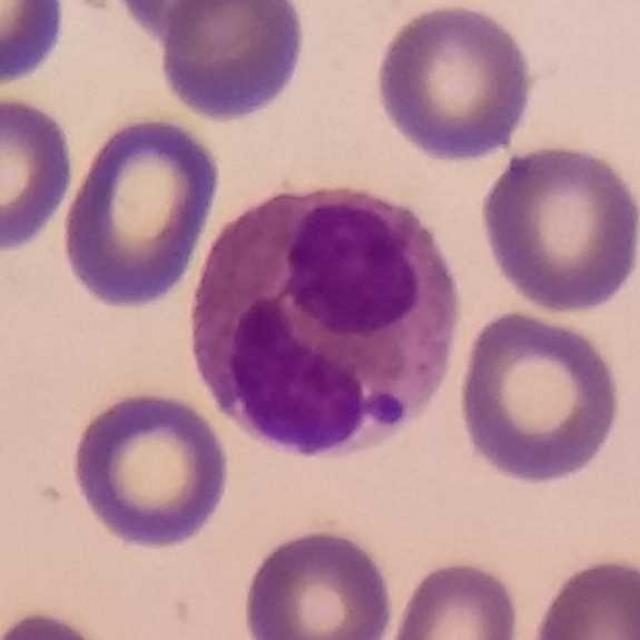Eosinophil: (197, 185, 479, 473)
RBC: (57, 110, 226, 314), (453, 306, 626, 486), (475, 138, 640, 315), (68, 385, 234, 553), (371, 0, 538, 165), (154, 0, 310, 125), (237, 522, 399, 640), (0, 90, 78, 257), (382, 555, 525, 640), (523, 552, 640, 640), (106, 0, 270, 47), (0, 0, 72, 90), (0, 604, 126, 640)
